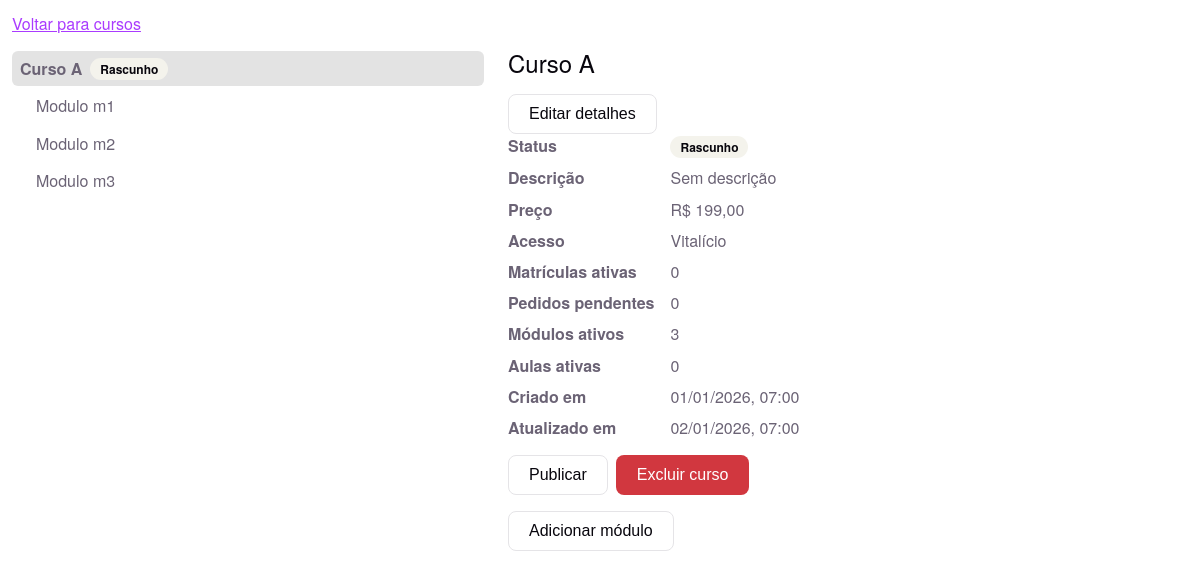
reordering modules › disables the move that is impossible at the edges
What coordinates should you click on to do the following:
click the list item "Modulo m1"
I would click on:
 (76, 106)
Its box is [36,94,115,117].
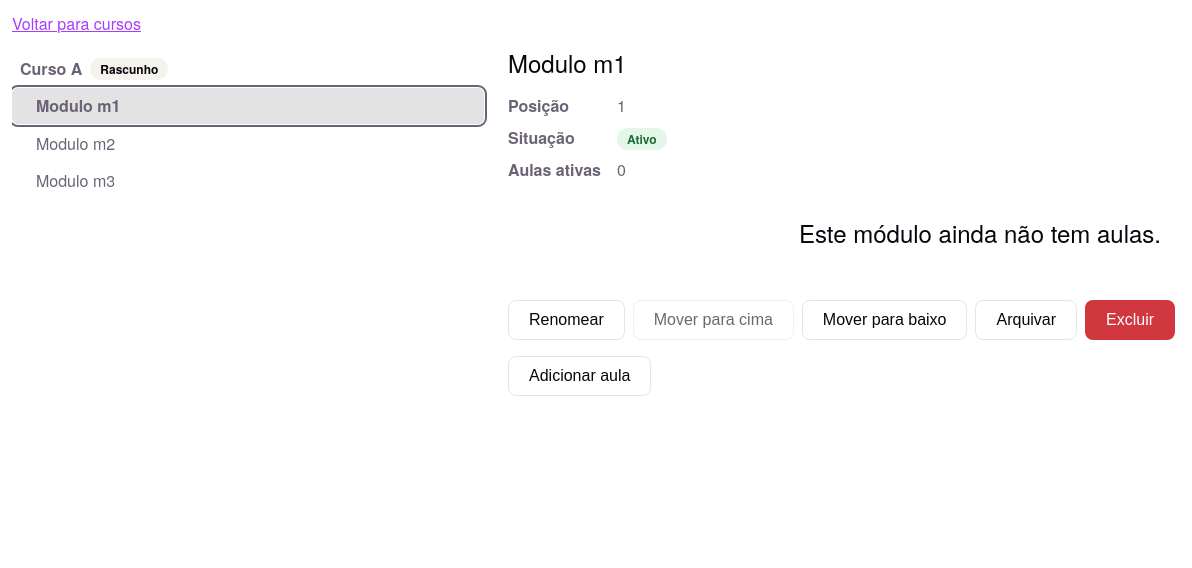
Expected: the button "Mover para cima" is disabled, [633,300,794,340]
What coordinates should you click on to do the following:
click the list item "Modulo m3"
I would click on:
 (76, 180)
Its box is [36,169,115,192].
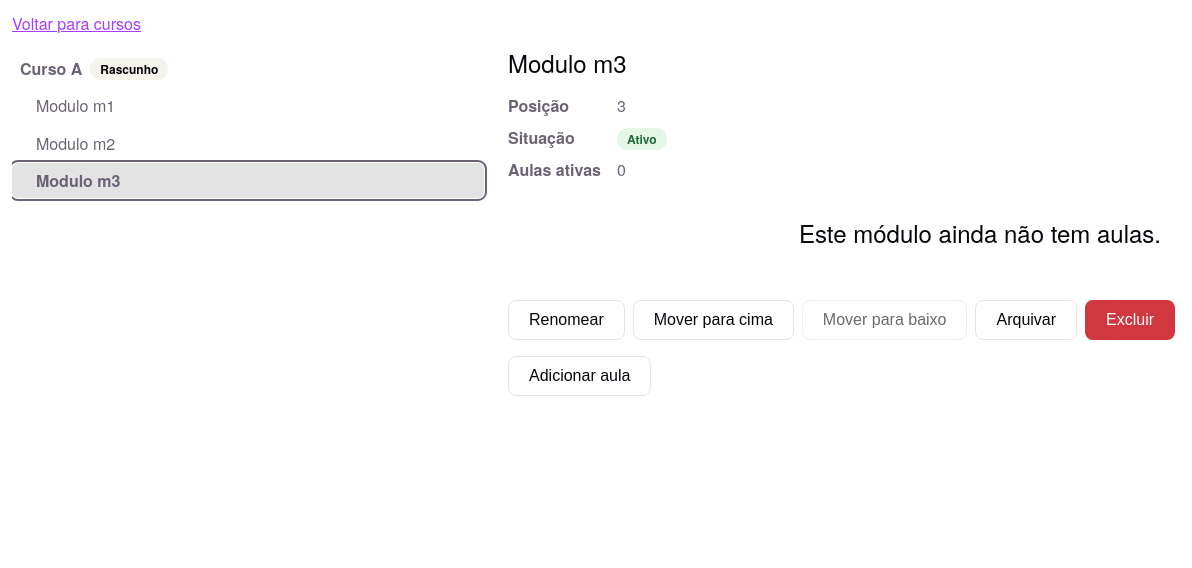
Expected: the button "Mover para baixo" is disabled, [802,300,968,340]
